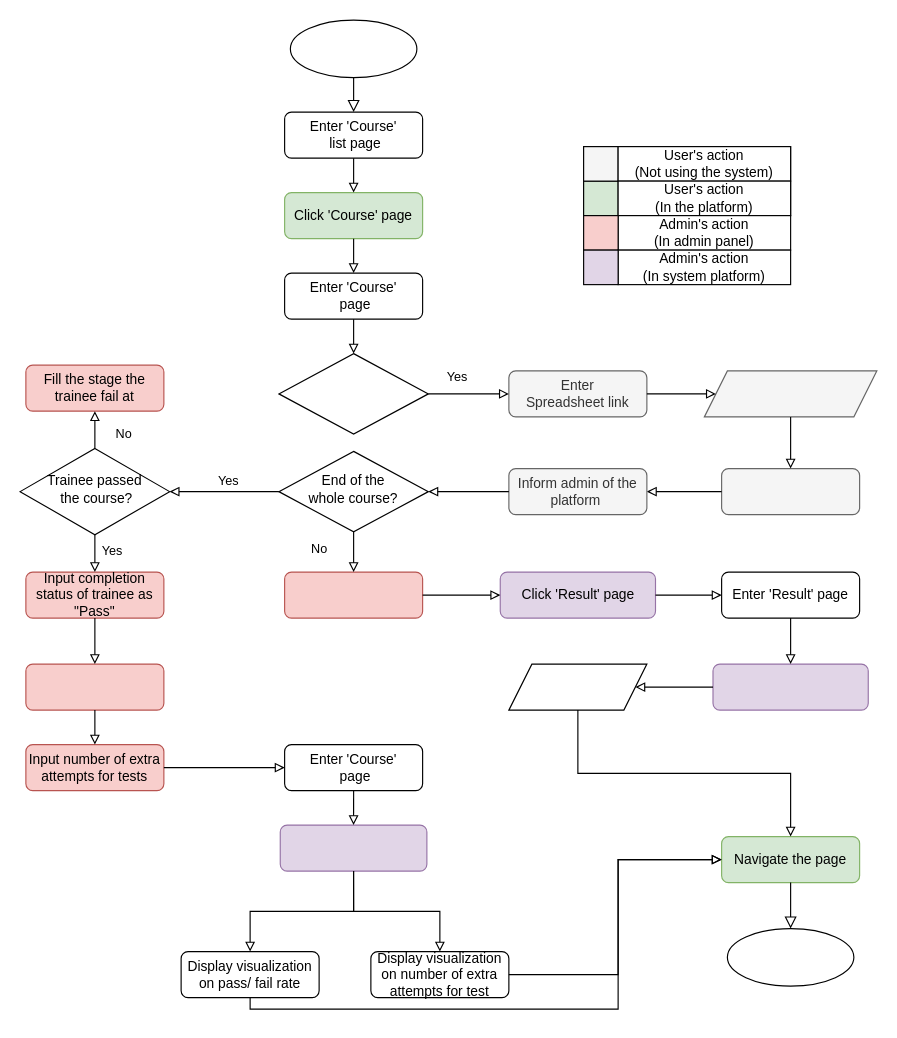
Some shapes in this 897 by 1038 pixel diagram are drawn without their labels. The centre of each missing label's shape, as x and y in pixels:
Click 'Graph': [353,847]
Contact panelist for confirmation of result: [790,491]
DIsplay success message: [577,686]
End: [790,956]
Input details for trainees who fail twice in same test: [353,594]
Input overall result: GPA, date completed, etc: [94,686]
Input result of test: [790,393]
Is instructor for the course?: [353,393]
Send email to instructor regarding those who failed twice in same test: [790,686]
Start: [353,48]
